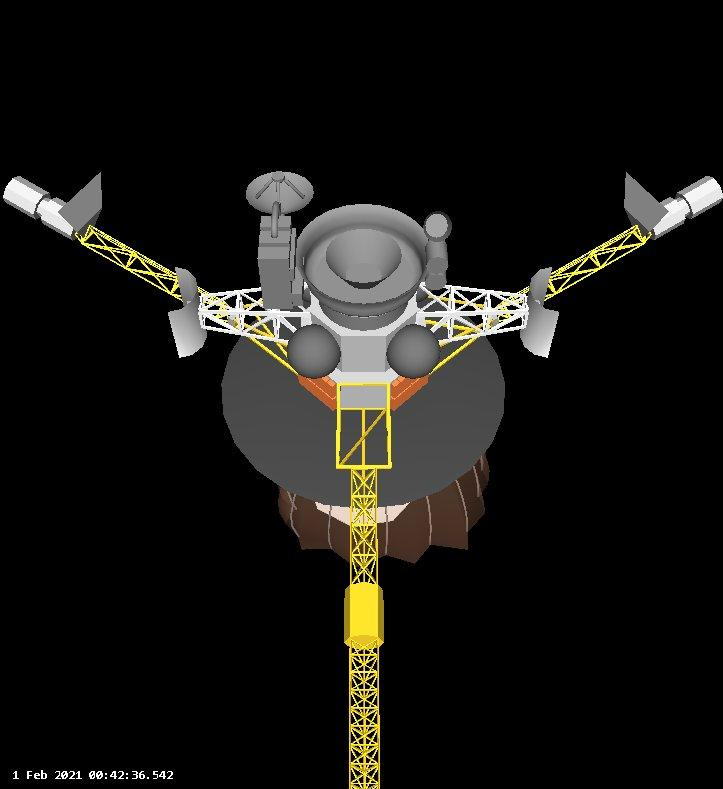antenna: (3, 171, 241, 334), (482, 170, 723, 329), (333, 379, 397, 789), (414, 264, 563, 362), (162, 266, 314, 356), (312, 497, 414, 530), (243, 170, 314, 216)
body: (296, 269, 435, 412)
thruster: (322, 227, 400, 291)
